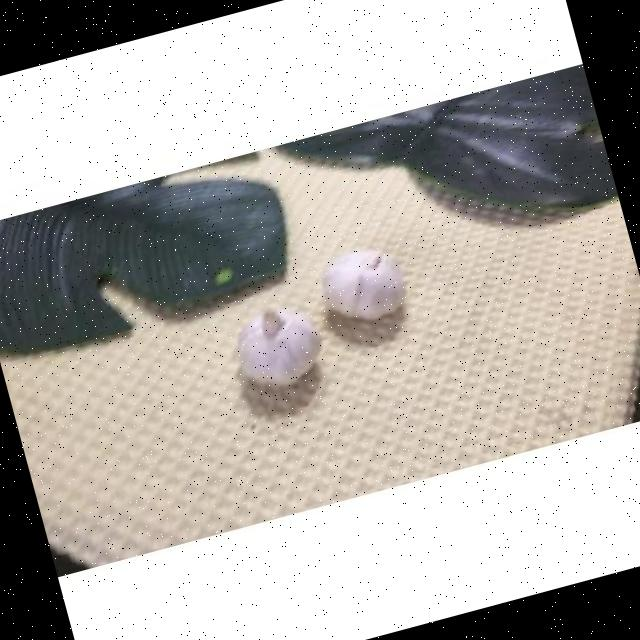garlic: (236, 306, 320, 383), (324, 248, 403, 318)
